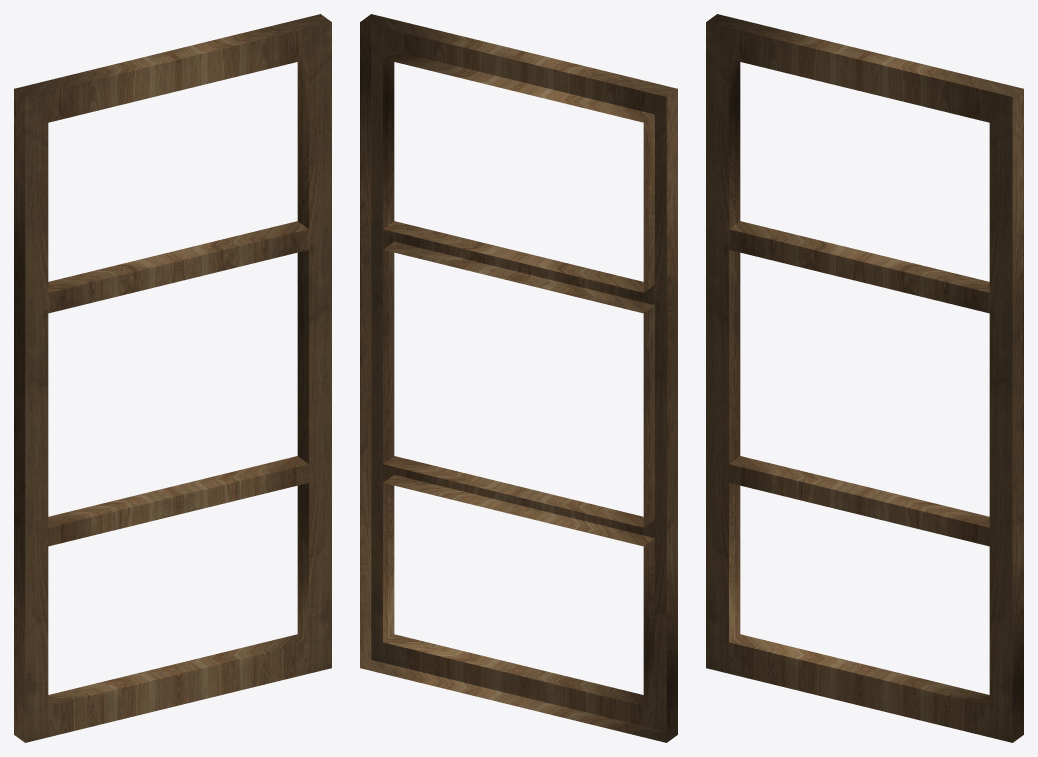
Rendered from window.FBX.
The picture shows the model from 3 angles, left to right: view 1: azimuth 30°, elevation 25°; view 2: azimuth 150°, elevation 25°; view 3: azimuth 330°, elevation 25°; orthographic projection.
Visible parts, largest first — view 1: window; view 2: window; view 3: window.
Part boxes in pixels (x1,y1,x2,y2): window: [14, 14, 331, 742]; window: [360, 14, 677, 742]; window: [706, 14, 1023, 742].
Size of the model in its own units: 100 by 202 by 6.37.
